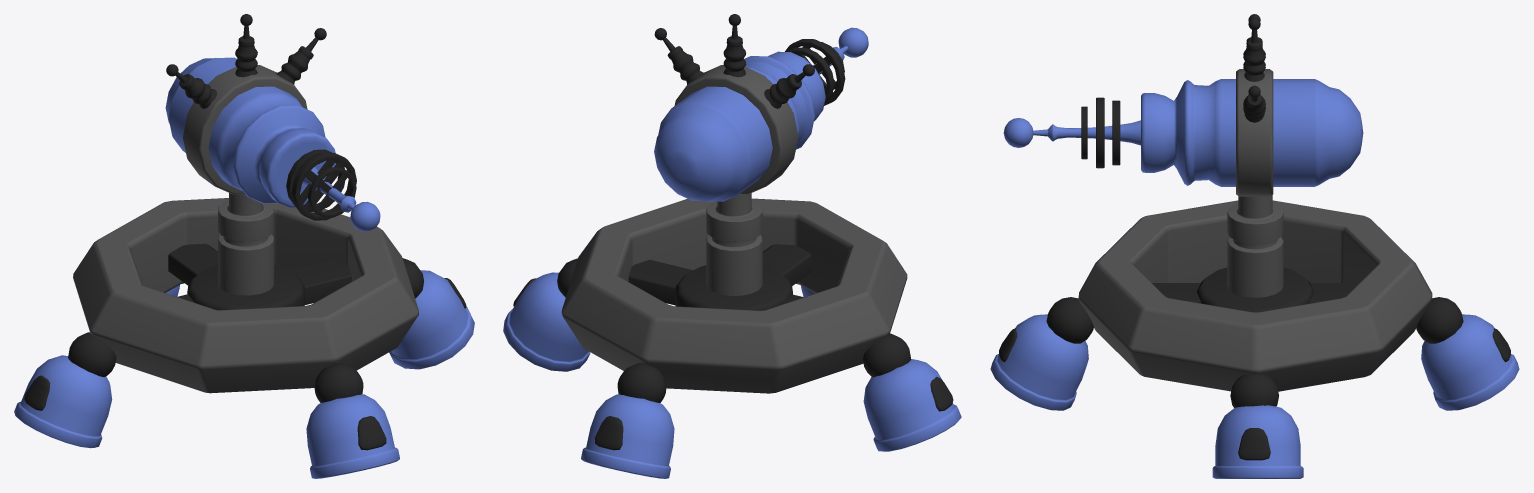
Rendered from _Turel_03.fbx.
The picture shows the model from 3 angles, left to right: view 1: azimuth 30°, elevation 25°; view 2: azimuth 150°, elevation 25°; view 3: azimuth 270°, elevation 25°; orthographic projection.
Parts seen in each view (by area): view 1: Turel_03; view 2: Turel_03; view 3: Turel_03.
Part boxes in pixels (x1,y1,x2,y2): Turel_03: (14,14,474,478); Turel_03: (503,14,961,478); Turel_03: (990,14,1519,478).
Bounding box in the file's own units: 406 × 337 × 420.
1 material, 1 textured.
